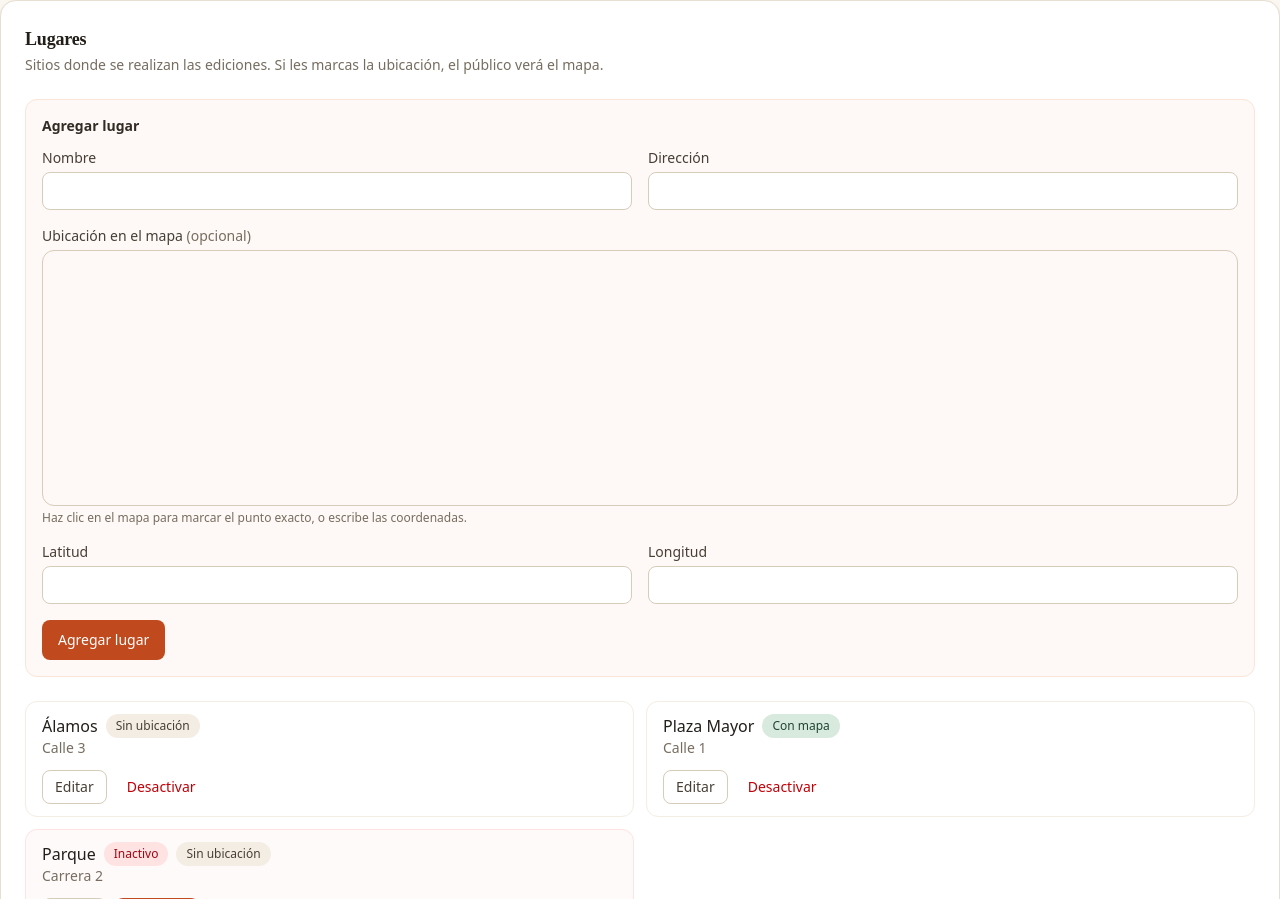
Test: GestionLugares: crear › si el servidor falla muestra el error y conserva lo escrito
Type "  Salón Comunal " into the field labelled "Nombre" at (337, 191), box [42,172,632,210]
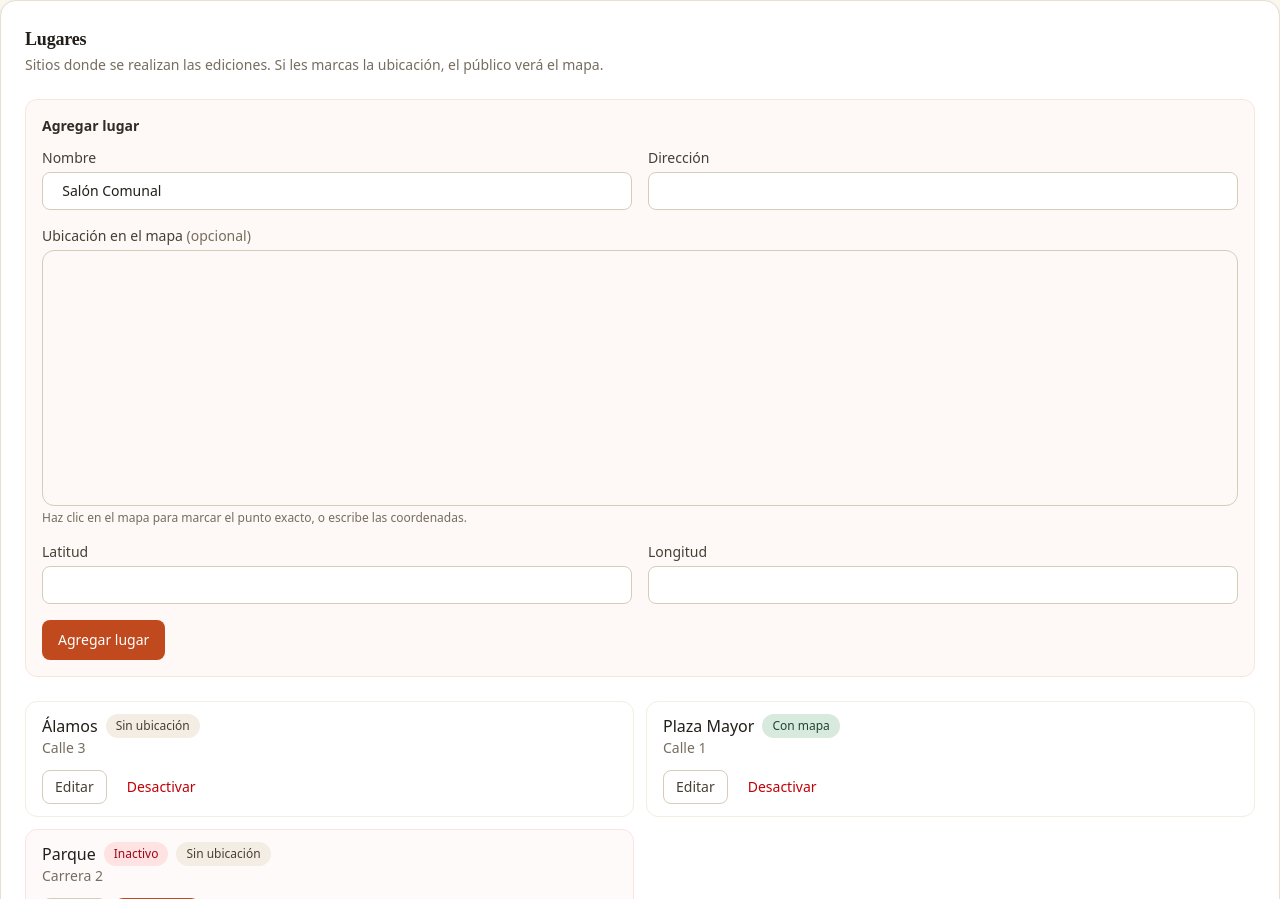
Type " Calle 9 " into the field labelled "Dirección" at (943, 191), box [648,172,1238,210]
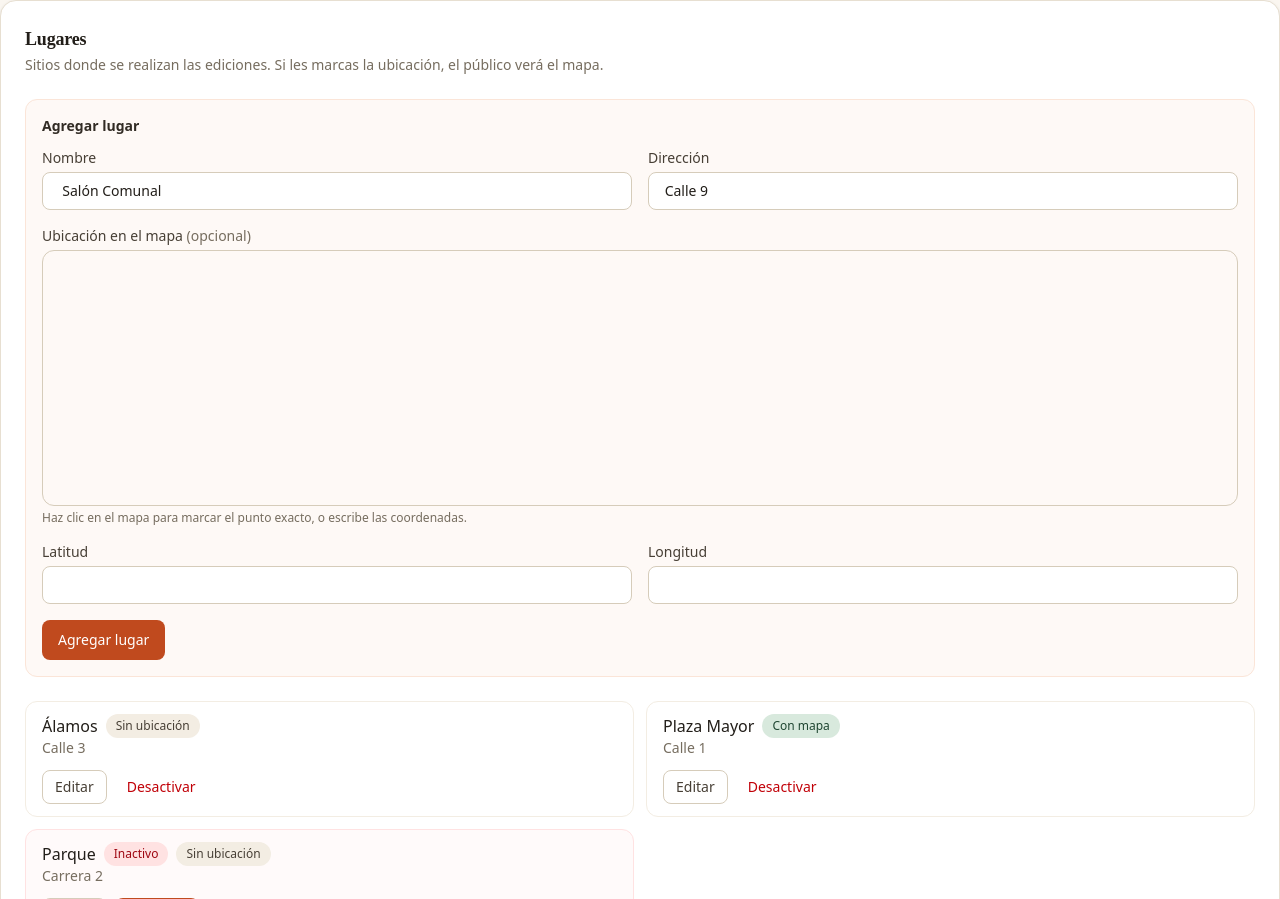
Click the button "Agregar lugar" at (104, 640), box [42,620,165,660]
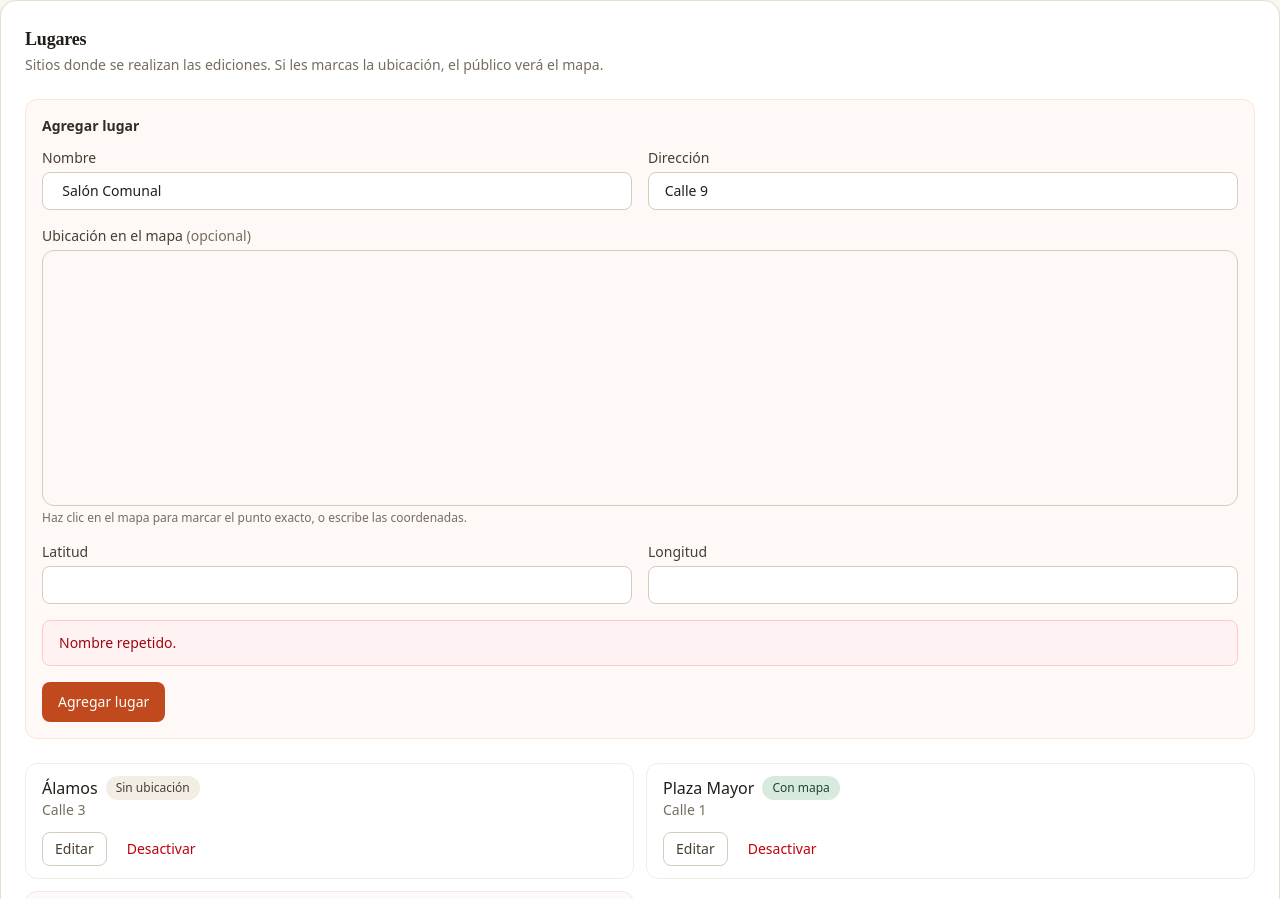
Expected: the message reads "Nombre repetido.", [59,633,176,652]
